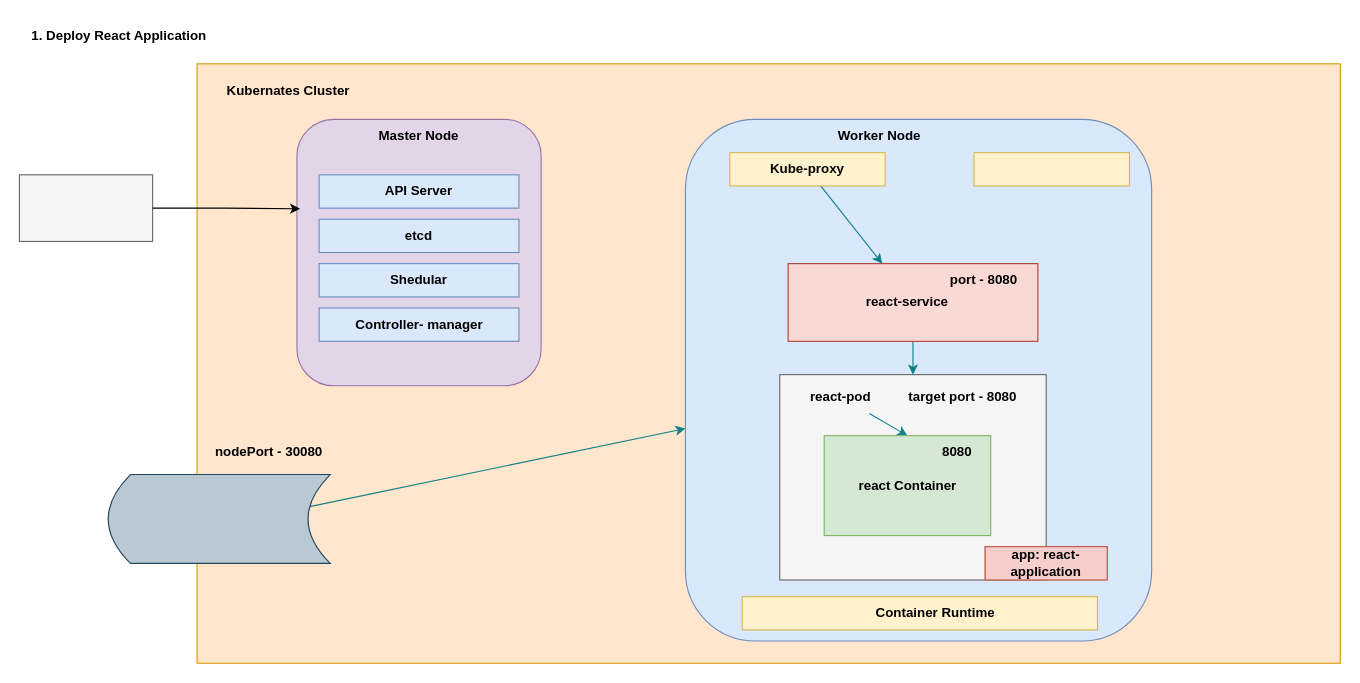
Image size: 1360x683. Some labels were removed from this diagram. The shapes that lost their labels are listed below. From the top down, each one's centre as x and y in pixels, then its label:
(x=1051, y=169): Kubelet
(x=85, y=207): kubectl
(x=218, y=518): Node Port
